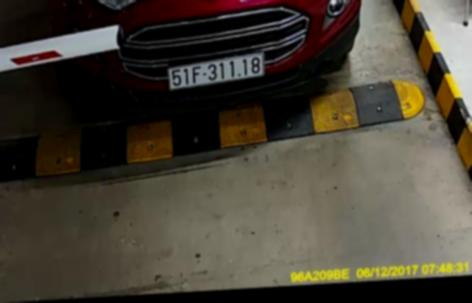License_Plate: (159, 43, 268, 93)
